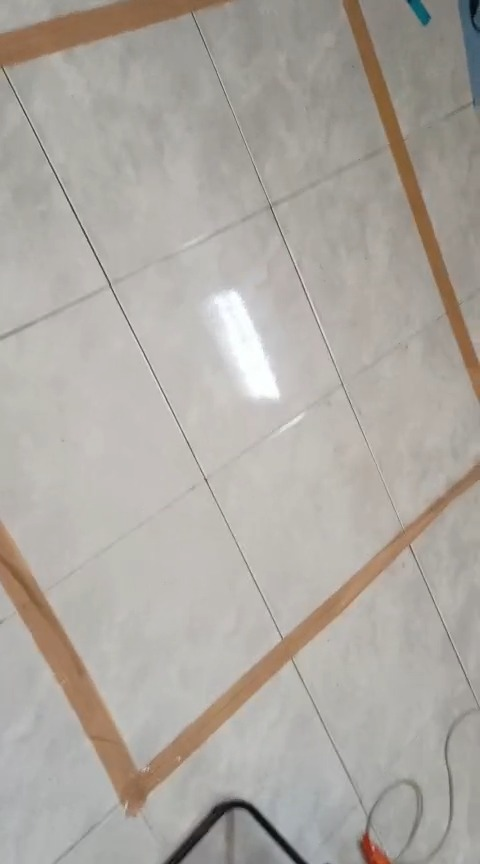floor marking: (0, 464, 479, 813), (344, 0, 479, 398), (0, 0, 229, 66)
